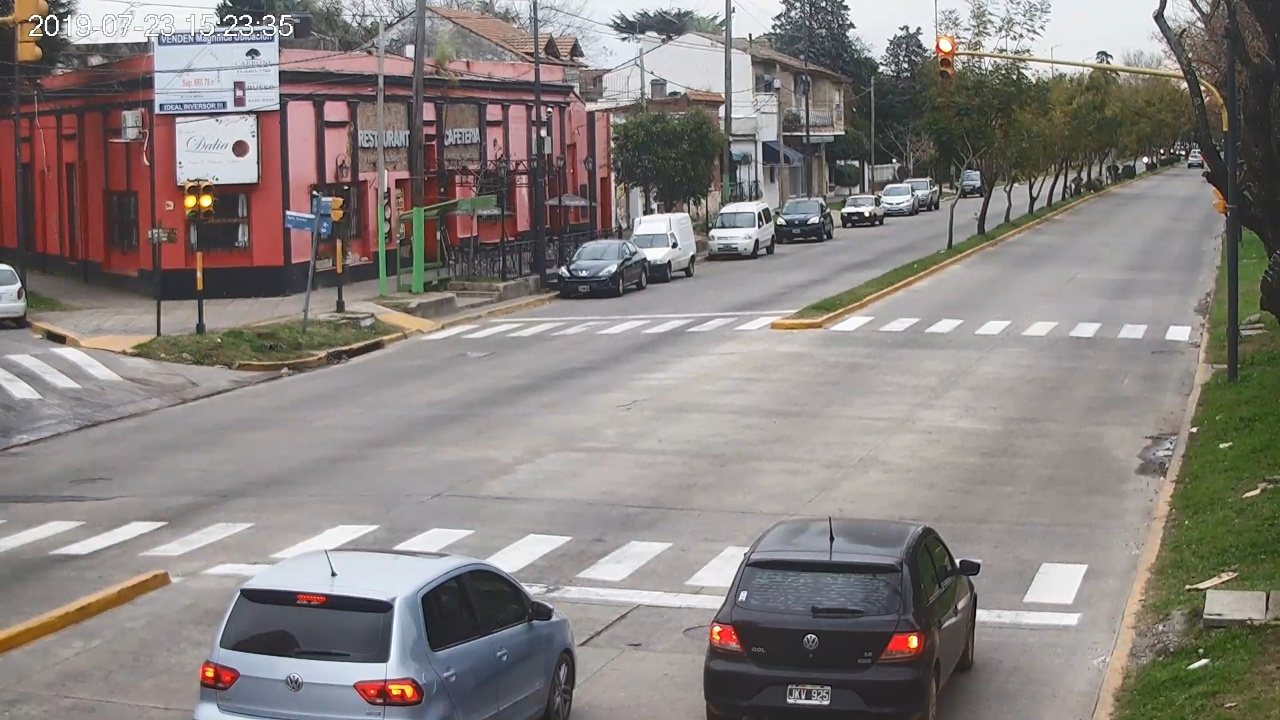car: (195, 549, 578, 720), (704, 517, 980, 720)
traffic light: (938, 36, 953, 79)
